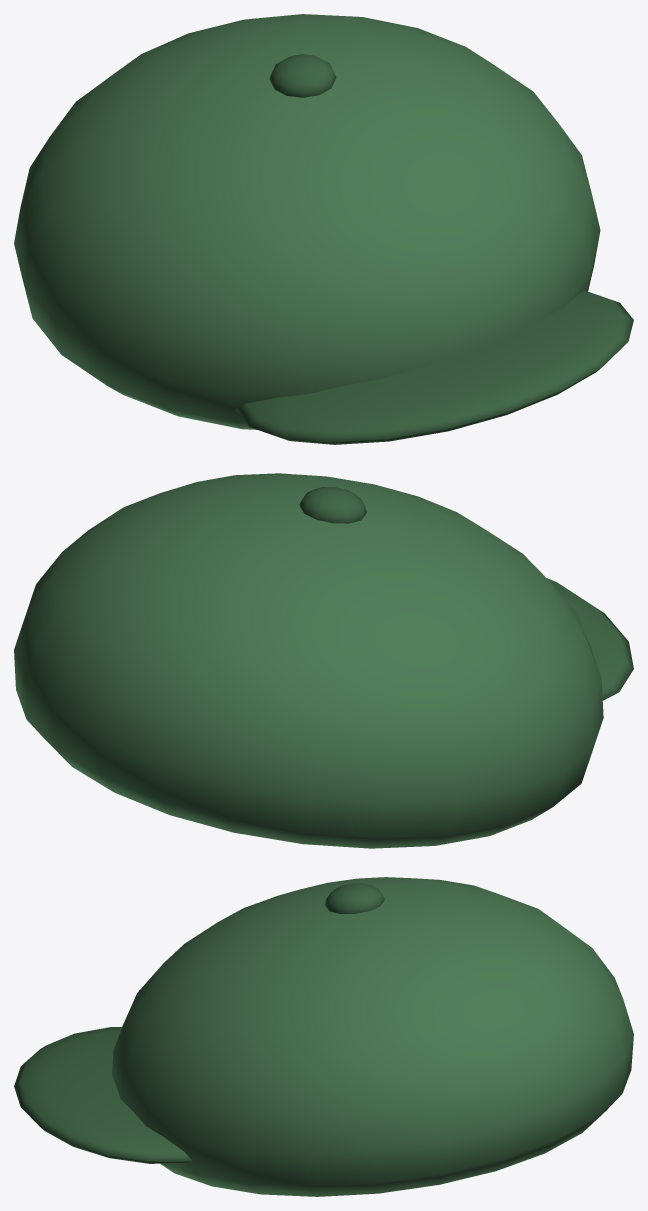
File: green_cap.glb
The picture shows the model from 3 angles, top to bottom: view 1: azimuth 30°, elevation 25°; view 2: azimuth 150°, elevation 25°; view 3: azimuth 270°, elevation 25°; orthographic projection. The views are drawn at different scales.
Parts seen in each view (by area): view 1: CapDome, CapVisor, CapBtn; view 2: CapDome, CapVisor, CapBtn; view 3: CapDome, CapVisor, CapBtn.
Boxes of the visible parts, left/top/right/bottom form: CapDome: left=14, top=14, right=600, bottom=429; CapVisor: left=235, top=290, right=633, bottom=444; CapBtn: left=269, top=54, right=336, bottom=97; CapDome: left=14, top=473, right=603, bottom=848; CapVisor: left=547, top=578, right=633, bottom=700; CapBtn: left=299, top=487, right=366, bottom=523; CapDome: left=112, top=877, right=633, bottom=1196; CapVisor: left=14, top=1027, right=191, bottom=1163; CapBtn: left=325, top=883, right=384, bottom=913.
Size of the model in its own units: 0.5579 by 0.29 by 0.6602.
